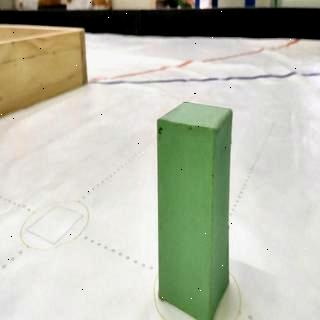greenbox: (155, 99, 233, 320)
